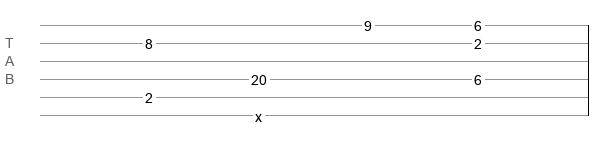2: (145, 90, 153, 100), (474, 36, 482, 46)
20: (251, 72, 267, 82)
6: (474, 72, 482, 82), (474, 18, 482, 28)
8: (145, 36, 153, 46)
9: (364, 18, 372, 28)
x: (255, 109, 262, 117)
